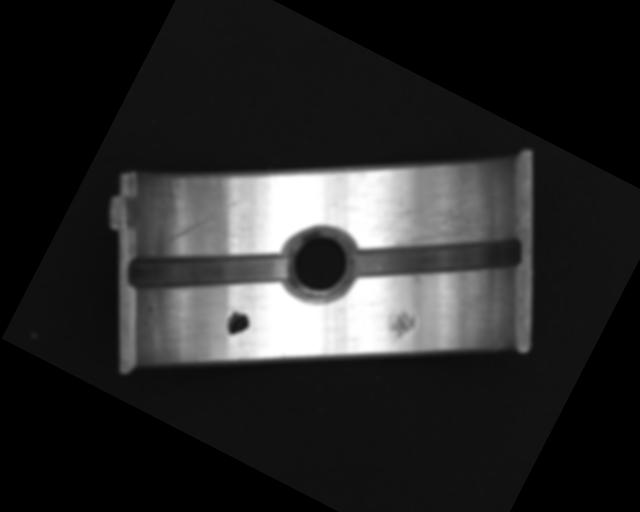blot: (221, 307, 253, 341)
bruise: (381, 305, 420, 349)
gap: (347, 176, 527, 340), (122, 197, 293, 347)
hole: (271, 213, 367, 314)
nick: (166, 176, 243, 265)
scratch: (368, 150, 515, 287)
